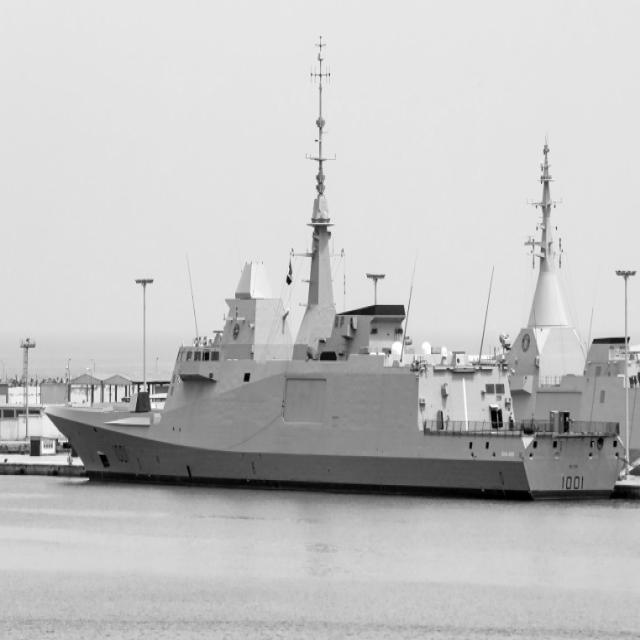Fragata: (43, 20, 627, 490)
